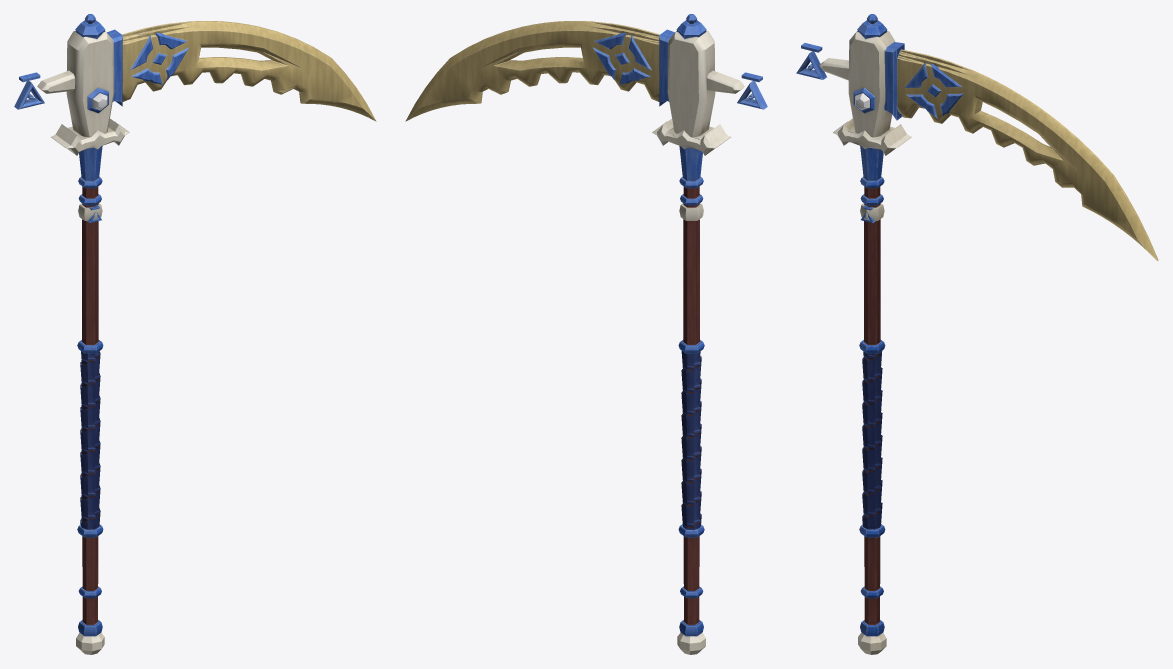
The model's file is Equinox Reaper.fbx.
3 renders of one model, left to right at view 1: azimuth 30°, elevation 25°; view 2: azimuth 150°, elevation 25°; view 3: azimuth 330°, elevation 25°, orthographic.
Visible parts, largest first — view 1: Equinox Reaper_Body; view 2: Equinox Reaper_Body; view 3: Equinox Reaper_Body.
Boxes of the visible parts, <box> form: Equinox Reaper_Body: <box>14,14,376,654</box>; Equinox Reaper_Body: <box>405,14,767,654</box>; Equinox Reaper_Body: <box>796,14,1158,654</box>.
Bounding box in the file's own units: 3.67 × 6.21 × 0.39.
